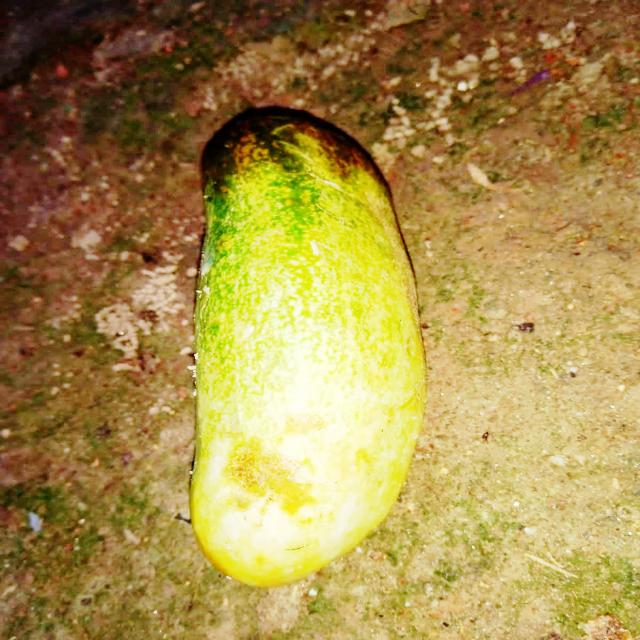Anthracnose: (220, 412, 329, 522)
